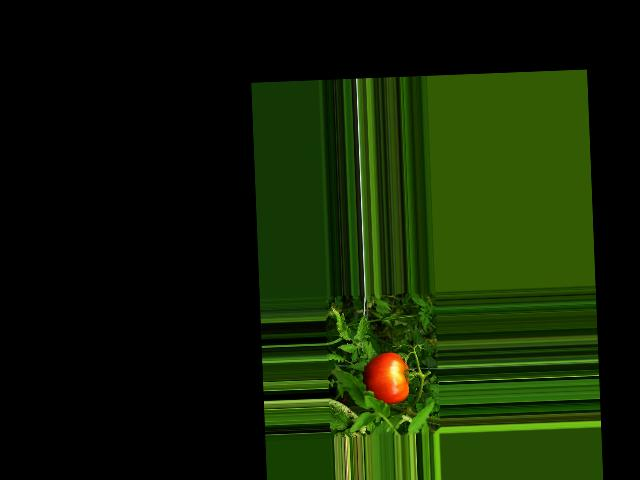tomato: (362, 351, 410, 404)
